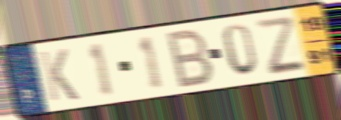0: (221, 22, 259, 79)
1: (137, 33, 164, 93), (87, 40, 114, 100)
B: (165, 26, 216, 90)
K: (37, 47, 82, 104)
Z: (252, 15, 308, 78)
